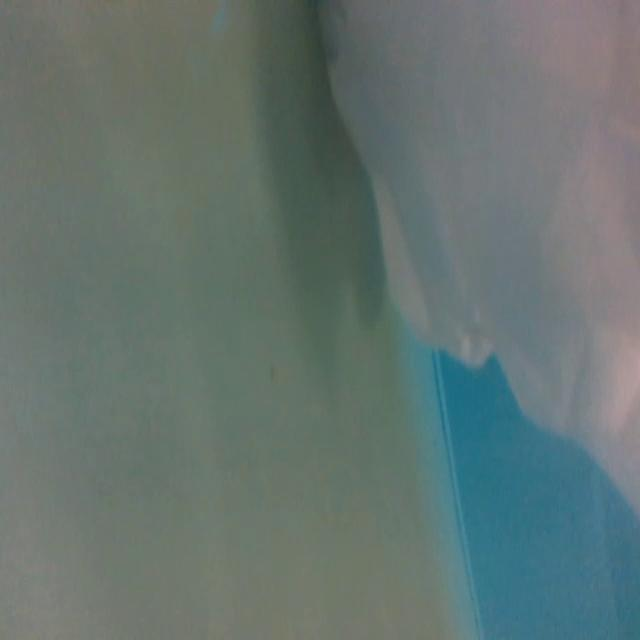plastic bags: (316, 0, 640, 504)
